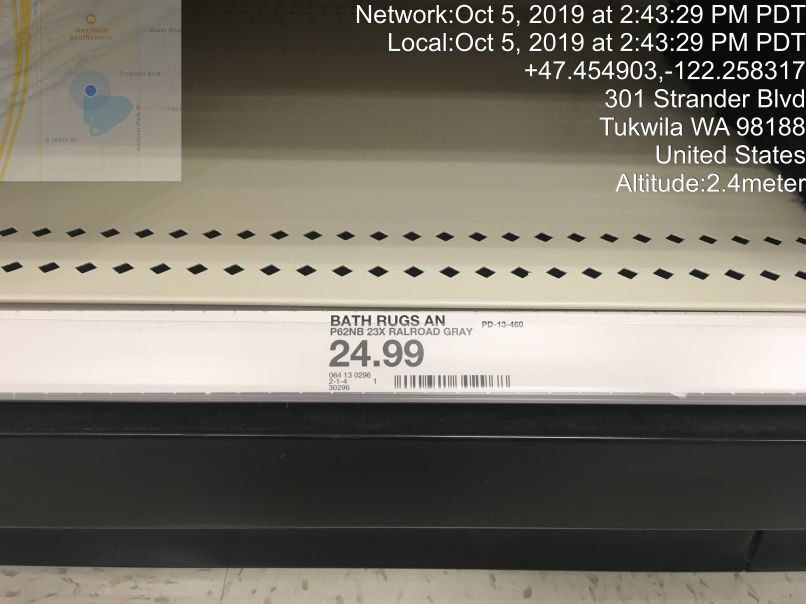Label: (318, 304, 533, 404)
Location: (593, 85, 806, 170)
Time: (349, 2, 806, 59)
Void: (9, 44, 784, 277)
